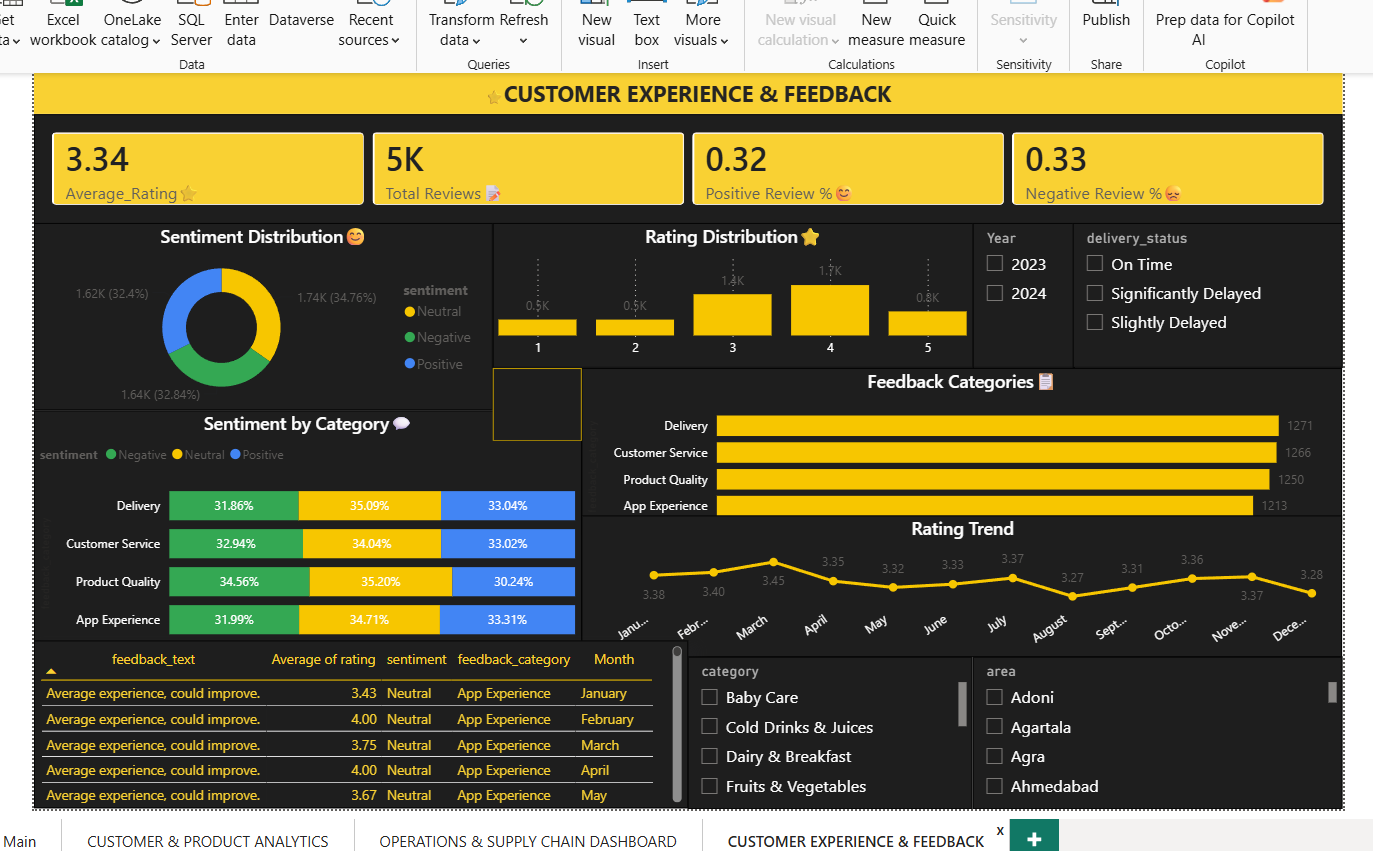

The dashboard page shown, as its layout file describes it:
{"tool":"powerbi","page":{"name":"CUSTOMER EXPERIENCE & FEEDBACK","canvas":[1280,720],"ordinal":3},"visuals":[{"type":"cardVisual","fields":{"Data":["_Measures4.Average_Rating","_Measures4.Total Reviews","_Measures4.Positive Review %","_Measures4.Negative Review %"]},"box":[0,40,1280,107.1],"z":0},{"type":"donutChart","title":"Sentiment Distribution😊","fields":{"Category":["blinkit_customer_feedback.sentiment"],"Y":["Count(blinkit_customer_feedback.feedback_id)"]},"box":[0,147.1,448.6,182.9],"z":1000},{"type":"clusteredColumnChart","title":"Rating Distribution⭐","fields":{"Y":["CountNonNull(blinkit_customer_feedback.feedback_id)"],"Category":["blinkit_customer_feedback.rating"]},"box":[448.6,147.1,470,141.4],"z":2000},{"type":"barChart","title":"Feedback Categories📋","fields":{"Category":["blinkit_customer_feedback.feedback_category"],"Y":["Count(blinkit_customer_feedback.feedback_id)"]},"box":[535.7,288.6,744.3,162.9],"z":3000},{"type":"lineChart","title":"Rating Trend","fields":{"Category":["blinkit_customer_feedback.feedback_date.Variation.Date Hierarchy.Month"],"Y":["_Measures4.Average_Rating"]},"box":[535.7,432.9,744.3,138.6],"z":4000},{"type":"hundredPercentStackedBarChart","title":"Sentiment by Category💬","fields":{"Category":["blinkit_customer_feedback.feedback_category"],"Series":["blinkit_customer_feedback.sentiment"],"Y":["CountNonNull(blinkit_customer_feedback.feedback_id)"]},"box":[0,330,535.7,241.4],"z":5000},{"type":"tableEx","fields":{"Values":["blinkit_customer_feedback.feedback_text","Avg(blinkit_customer_feedback.rating)","blinkit_customer_feedback.sentiment","blinkit_customer_feedback.feedback_category","blinkit_customer_feedback.feedback_date.Variation.Date Hierarchy.Month"]},"box":[0,555.7,640,164.3],"z":6000},{"type":"textbox","box":[0,0,1280,40],"z":7000},{"type":"slicer","fields":{"Values":["blinkit_customer_feedback.feedback_date.Variation.Date Hierarchy.Year"]},"box":[918.6,147.1,100,141.4],"z":8000},{"type":"slicer","fields":{"Values":["blinkit_delivery_performance.delivery_status"]},"box":[1015.7,147.1,264.3,141.4],"z":9000},{"type":"slicer","fields":{"Values":["blinkit_products.category"]},"box":[640,571.4,278.6,148.6],"z":10000},{"type":"slicer","fields":{"Values":["blinkit_customers.area"]},"box":[918.6,571.4,361.4,148.6],"z":11000},{"type":"shape","box":[448.6,288.6,87.1,71.4],"z":12000}]}

Visuals, with their boxes on the page's 1280x720 design canvas (x1, y1, x2, y2). These are canvas units, not pixel positions in the 1373x851 screenshot, which may show the page scaled, cropped or inside an application window:
cardVisual - _Measures4.Average_Rating x _Measures4.Total Reviews: <bbox>0, 40, 1280, 147</bbox>
"Sentiment Distribution😊" donutChart: <bbox>0, 147, 449, 330</bbox>
"Rating Distribution⭐" clusteredColumnChart: <bbox>449, 147, 919, 288</bbox>
"Feedback Categories📋" barChart: <bbox>536, 289, 1280, 452</bbox>
"Rating Trend" lineChart: <bbox>536, 433, 1280, 572</bbox>
"Sentiment by Category💬" hundredPercentStackedBarChart: <bbox>0, 330, 536, 571</bbox>
tableEx - blinkit_customer_feedback.feedback_text x Avg(blinkit_customer_feedback.rating): <bbox>0, 556, 640, 720</bbox>
textbox: <bbox>0, 0, 1280, 40</bbox>
slicer - blinkit_customer_feedback.feedback_date.Variation.Date Hierarchy.Year: <bbox>919, 147, 1019, 288</bbox>
slicer - blinkit_delivery_performance.delivery_status: <bbox>1016, 147, 1280, 288</bbox>
slicer - blinkit_products.category: <bbox>640, 571, 919, 720</bbox>
slicer - blinkit_customers.area: <bbox>919, 571, 1280, 720</bbox>
shape: <bbox>449, 289, 536, 360</bbox>
